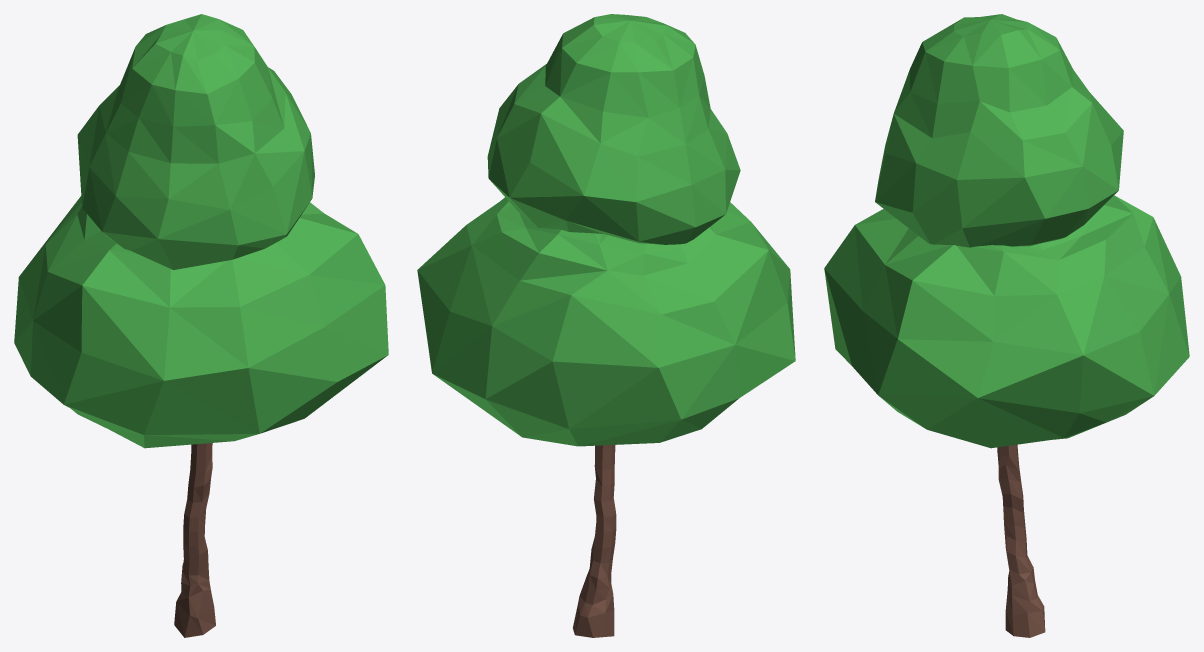
3 renders of one model, left to right at view 1: azimuth 30°, elevation 25°; view 2: azimuth 150°, elevation 25°; view 3: azimuth 270°, elevation 25°, orthographic. The views are drawn at different scales.
Visible parts, largest first — view 1: mesh_682488748, mesh_153626960, group_208210799; view 2: mesh_682488748, mesh_153626960, group_208210799; view 3: mesh_682488748, mesh_153626960, group_208210799.
Boxes of the visible parts, x1,y1,x2,y2 form: mesh_682488748: (14,196,388,448); mesh_153626960: (77,14,314,269); group_208210799: (174,443,215,637); mesh_682488748: (417,197,795,446); mesh_153626960: (487,14,740,244); group_208210799: (573,445,616,637); mesh_682488748: (824,195,1189,448); mesh_153626960: (875,14,1123,247); group_208210799: (997,444,1045,637).
Size of the model in its own units: 213 by 379 by 207.
